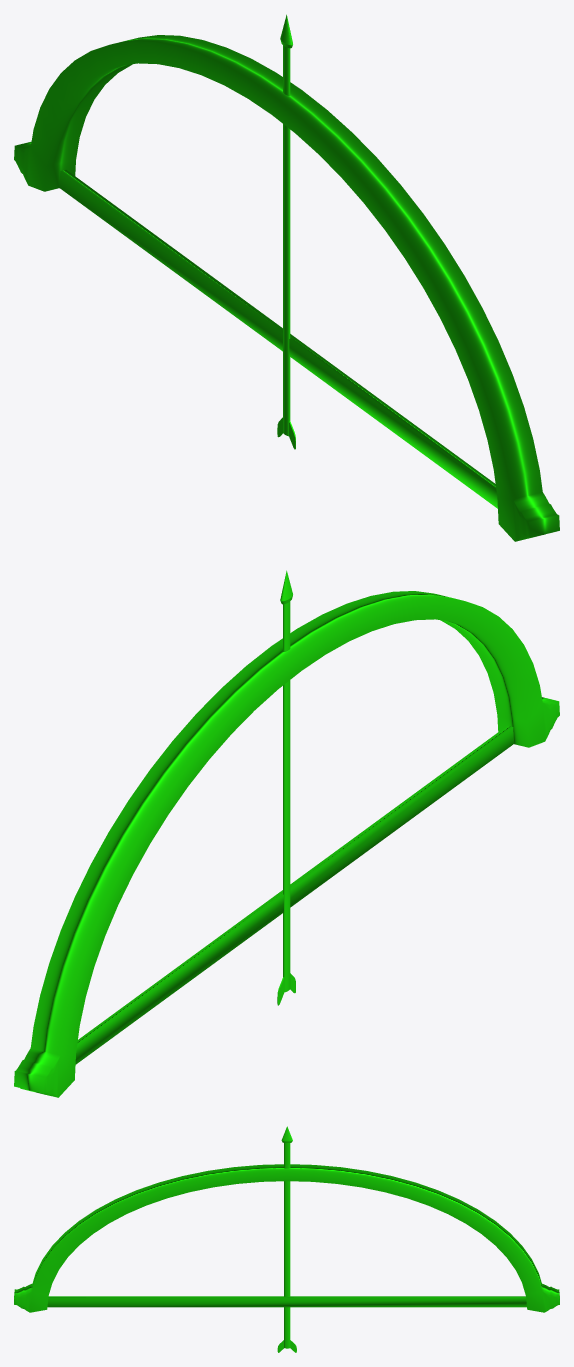
Rendered from artemis.fbx.
3 renders of one model, top to bottom at view 1: azimuth 30°, elevation 25°; view 2: azimuth 150°, elevation 25°; view 3: azimuth 270°, elevation 25°, orthographic. The views are drawn at different scales.
Parts seen in each view (by area): view 1: artemis; view 2: artemis; view 3: artemis.
Boxes of the visible parts, x1=… form: artemis: x1=14, y1=14, x2=559, y2=541; artemis: x1=14, y1=570, x2=559, y2=1097; artemis: x1=14, y1=1126, x2=559, y2=1352.
Bounding box in the file's own units: 7.18 × 97.29 × 212.
